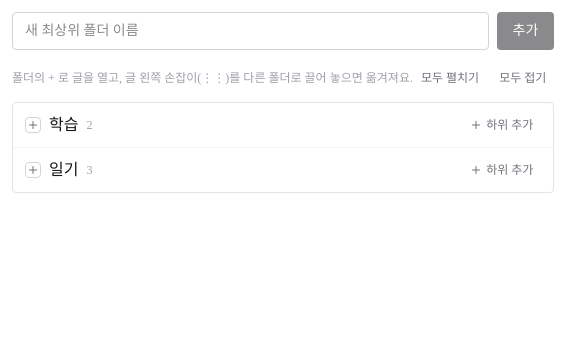
Test: PostMover (글 이동 탭) › 폴더 추가 › 폴더 줄의 '하위 추가'를 누르면 그 폴더 아래에 입력줄이 열리고, 추가하면 parentId와 함께 요청된다
The width and height of the screenshot is (571, 341).
Click the button with aria-label "학습의 하위 폴더 추가" at (502, 125), box [462,113,541,137]
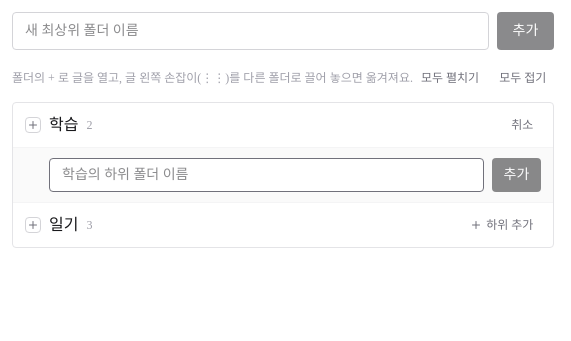
Type "프론트엔드" into the field labelled "하위 폴더 이름" at (266, 175), box [49,158,484,192]
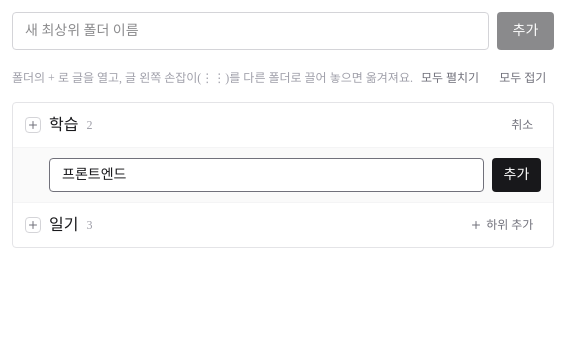
Click the 2nd button "추가" at (516, 175), box [492,158,541,192]
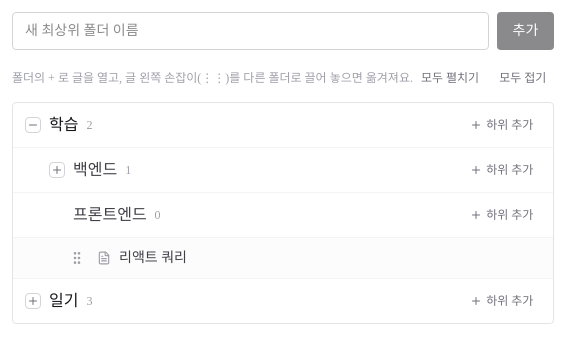
Expected: the field labelled "하위 폴더 이름" is not shown
Now the text "프론트엔드" is shown, box [73,203,147,227]
